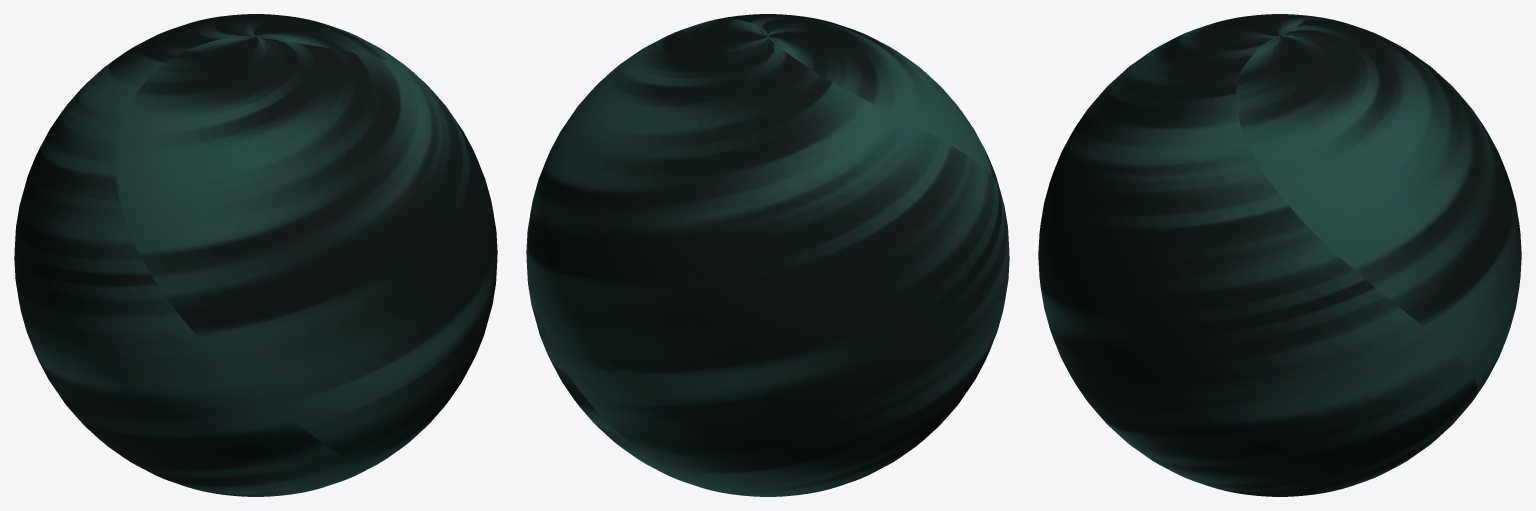
The model's file is qiu.FBX.
3 views of the same model, side by side, from view 1: azimuth 30°, elevation 25°; view 2: azimuth 150°, elevation 25°; view 3: azimuth 270°, elevation 25° (orthographic).
Visible parts, largest first — view 1: Sphere001; view 2: Sphere001; view 3: Sphere001.
Boxes of the visible parts, x1,y1,x2,y2 form: Sphere001: [14, 14, 497, 496]; Sphere001: [526, 14, 1009, 496]; Sphere001: [1038, 14, 1521, 496].
Bounding box in the file's own units: 143 × 143 × 143.
